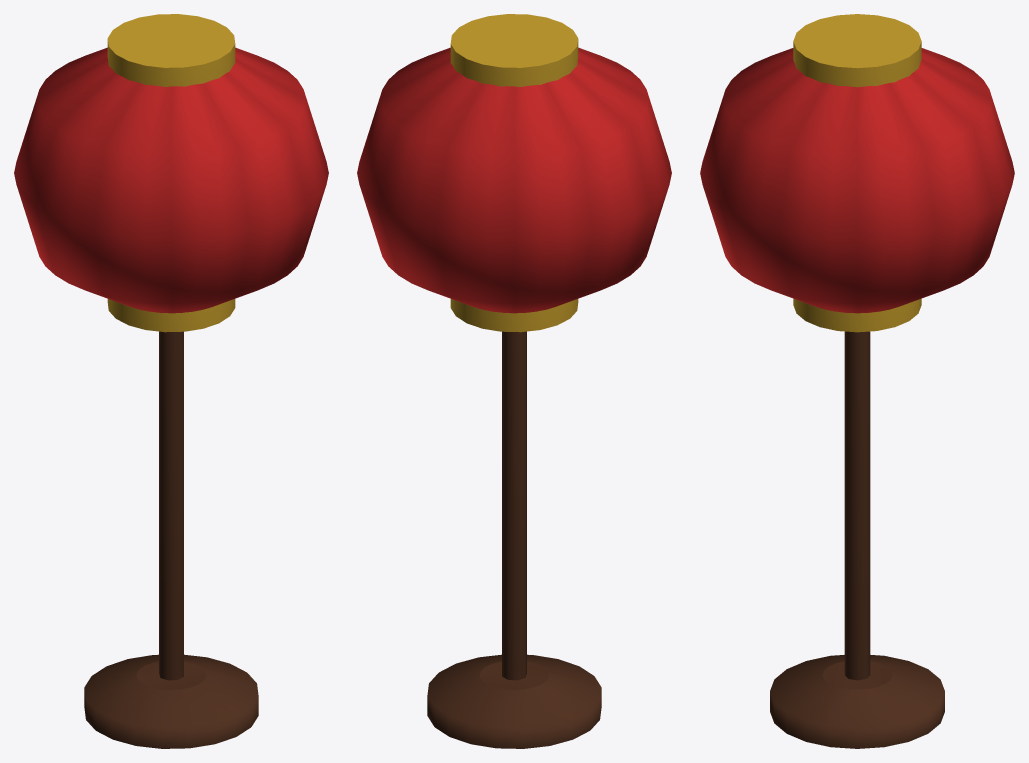
Rendered from furn_red_lantern.glb.
The picture shows the model from 3 angles, left to right: view 1: azimuth 30°, elevation 25°; view 2: azimuth 150°, elevation 25°; view 3: azimuth 270°, elevation 25°; orthographic projection.
Visible parts, largest first — view 1: furn_red_lantern_main; view 2: furn_red_lantern_main; view 3: furn_red_lantern_main.
Part boxes in pixels (x1=…): furn_red_lantern_main: x1=14, y1=14, x2=328, y2=748; furn_red_lantern_main: x1=357, y1=14, x2=671, y2=748; furn_red_lantern_main: x1=700, y1=14, x2=1014, y2=748.
Size of the model in its own units: 0.54 by 1.27 by 0.54.
